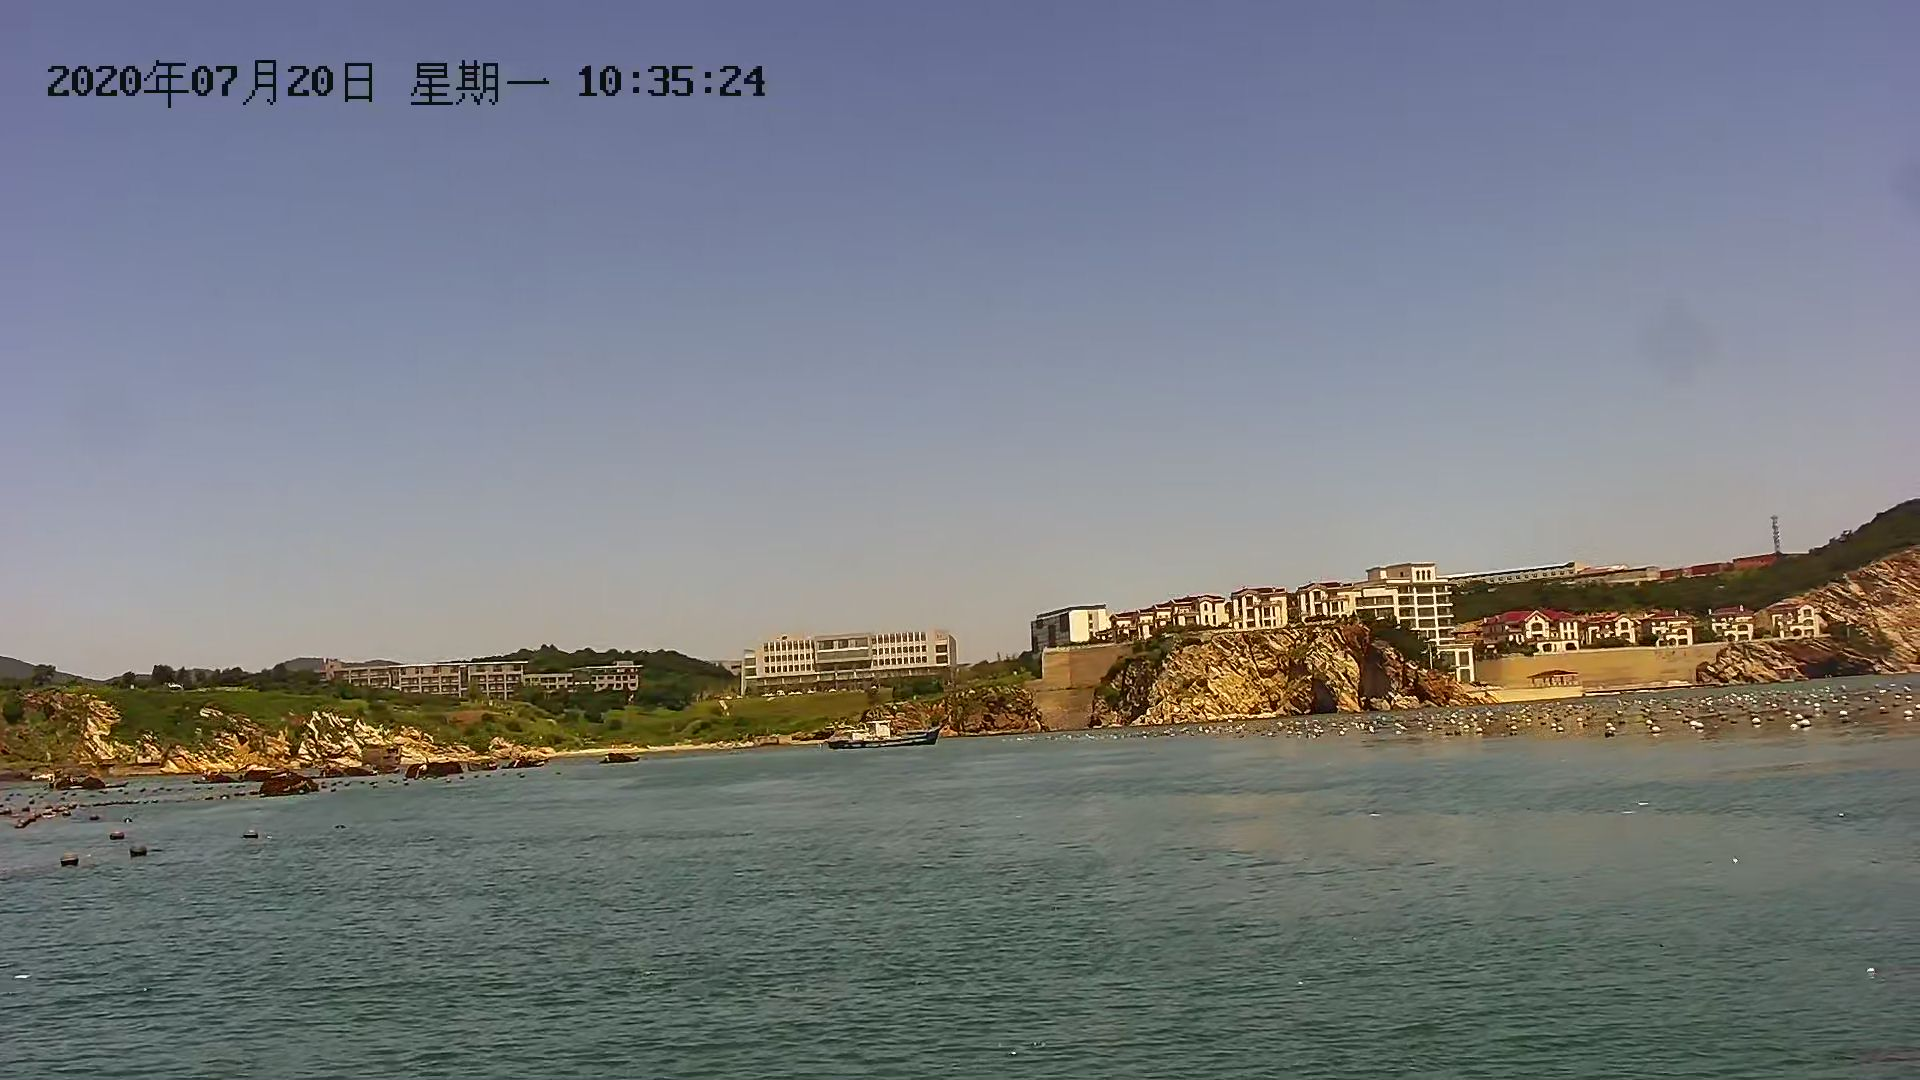ball: (55, 849, 86, 880), (124, 839, 157, 862)
boat: (825, 723, 939, 752)
